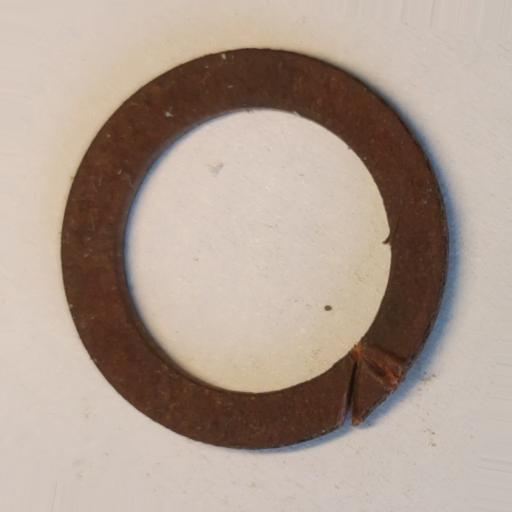defect: (339, 338, 408, 431), (383, 215, 405, 248)
